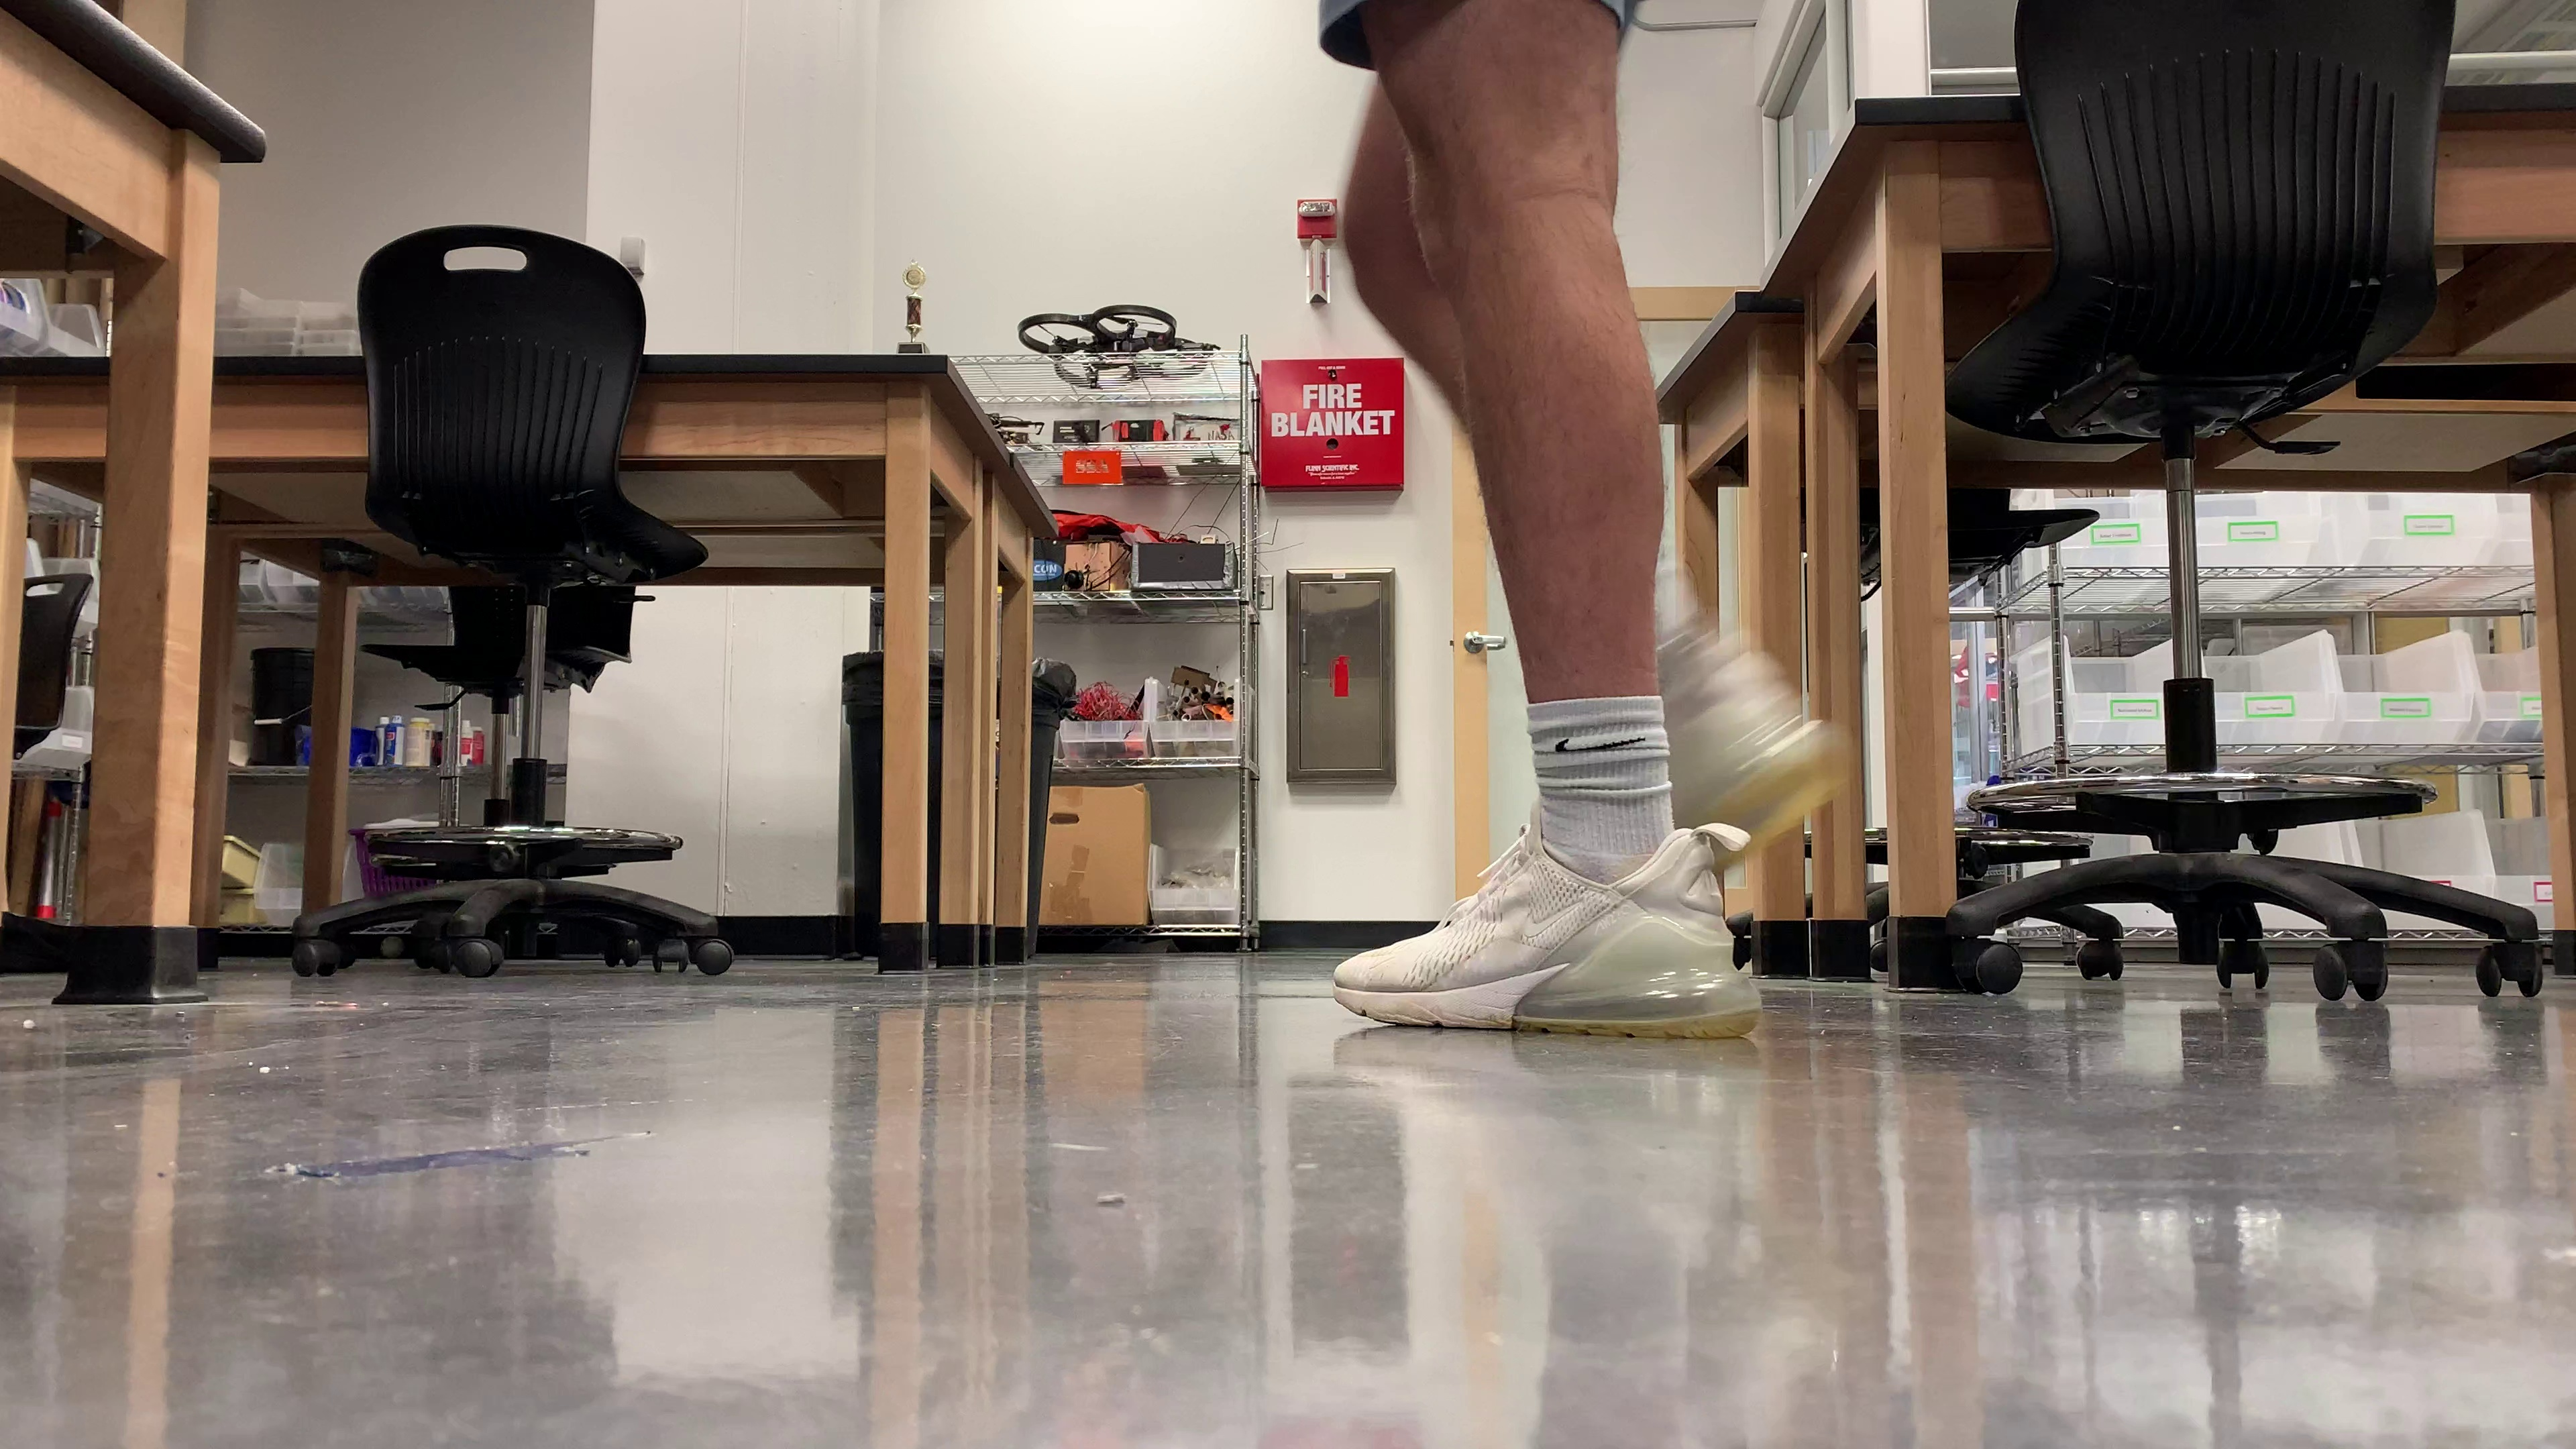shoe: (1332, 801, 1762, 1040)
